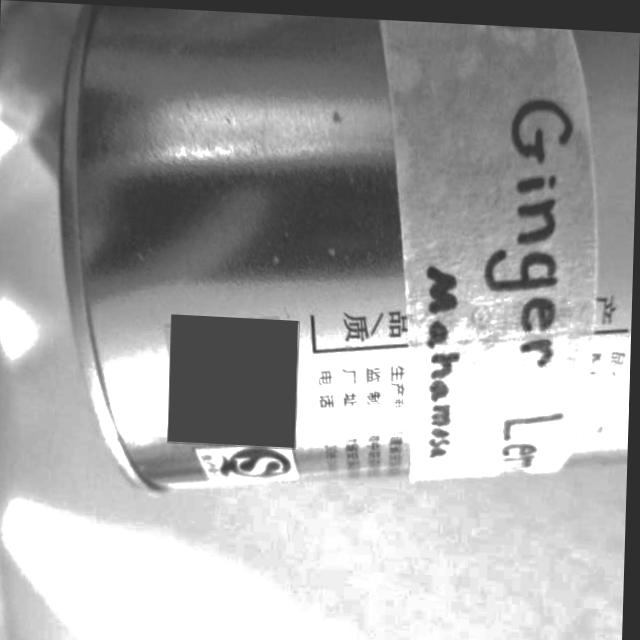qr_code: (169, 313, 300, 446)
